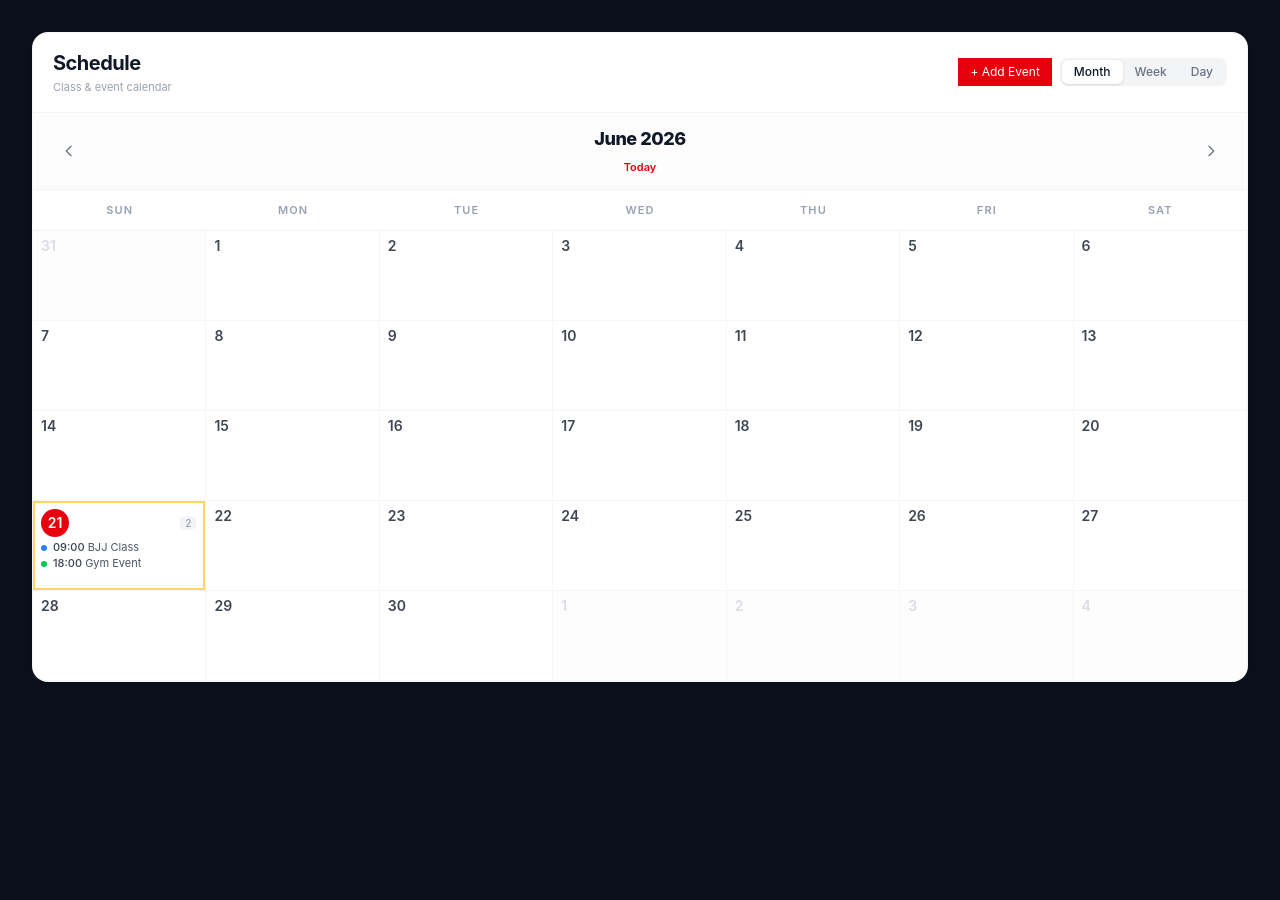
Test: Calendar Page › shows add event button and opens modal on click
Click the button "+ Add Event" at (1005, 72), box [958,58,1052,86]
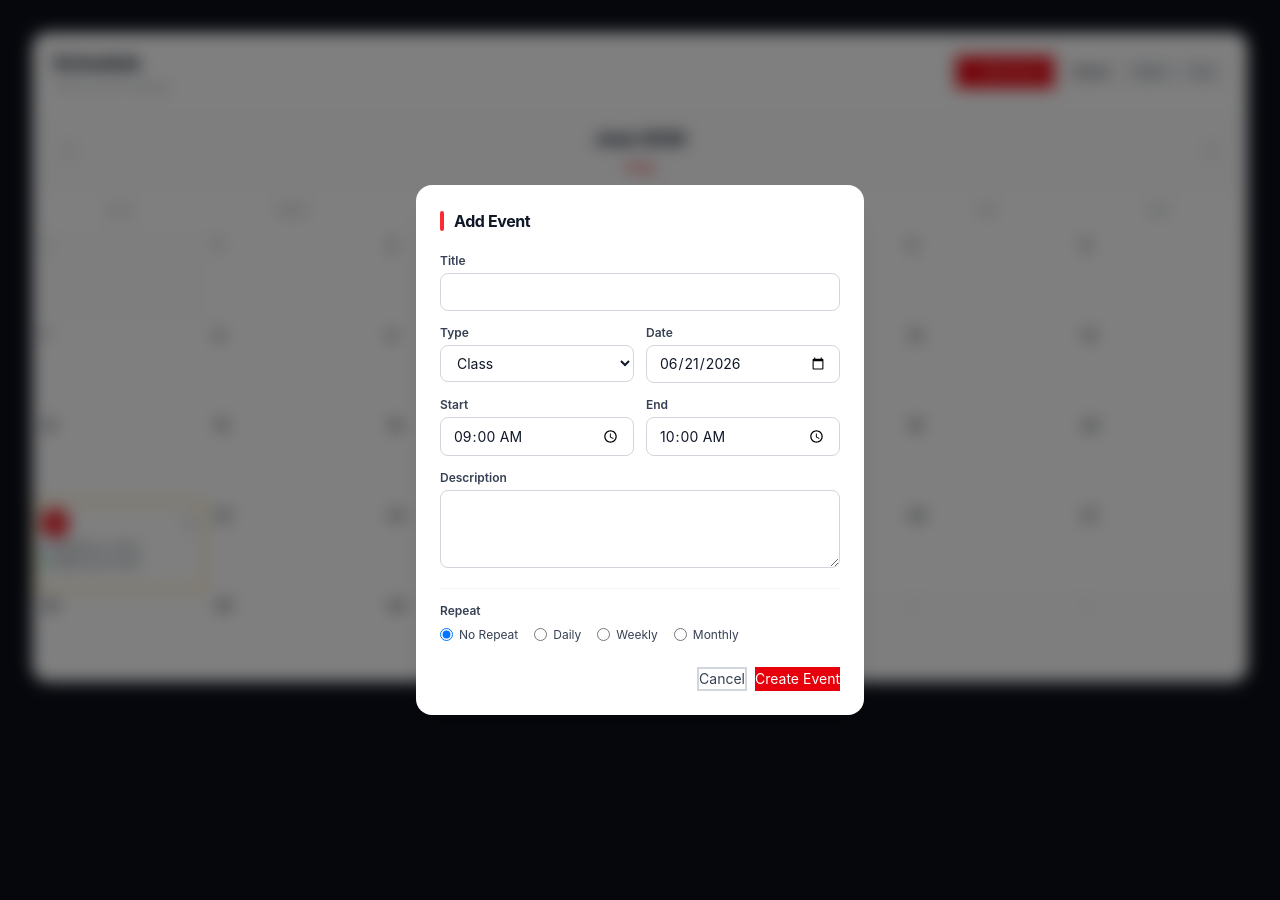
expect the heading "Add Event" is shown: met, box [454,209,530,233]
